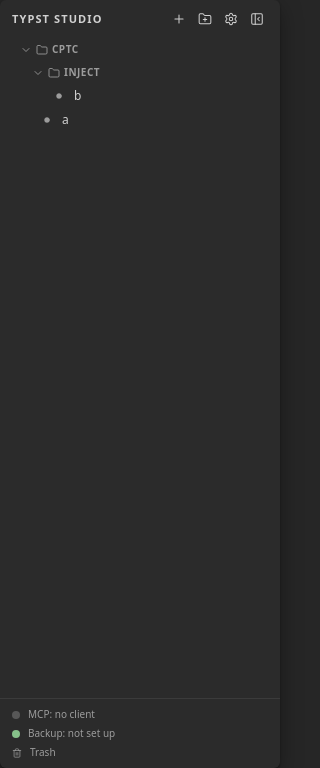
it: Sidebar › counts the whole subtree on a collapsed folder
The image size is (320, 768).
What coordinates should you click on to do the following:
click the button "CPTC"
I would click on:
 (26, 50)
Its box is x1=8 y1=38 x2=272 y2=61.
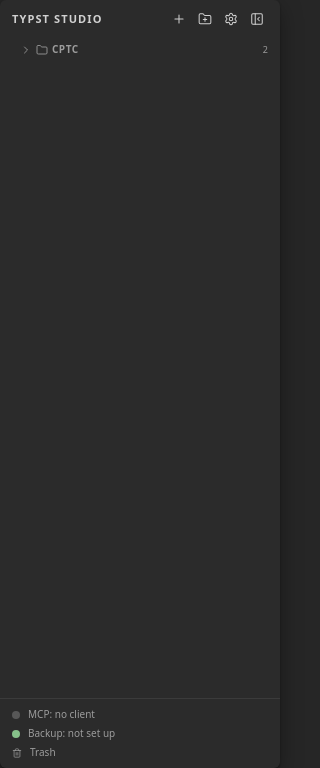
Check: the text "2" is shown, box x1=263 y1=43 x2=268 y2=56
